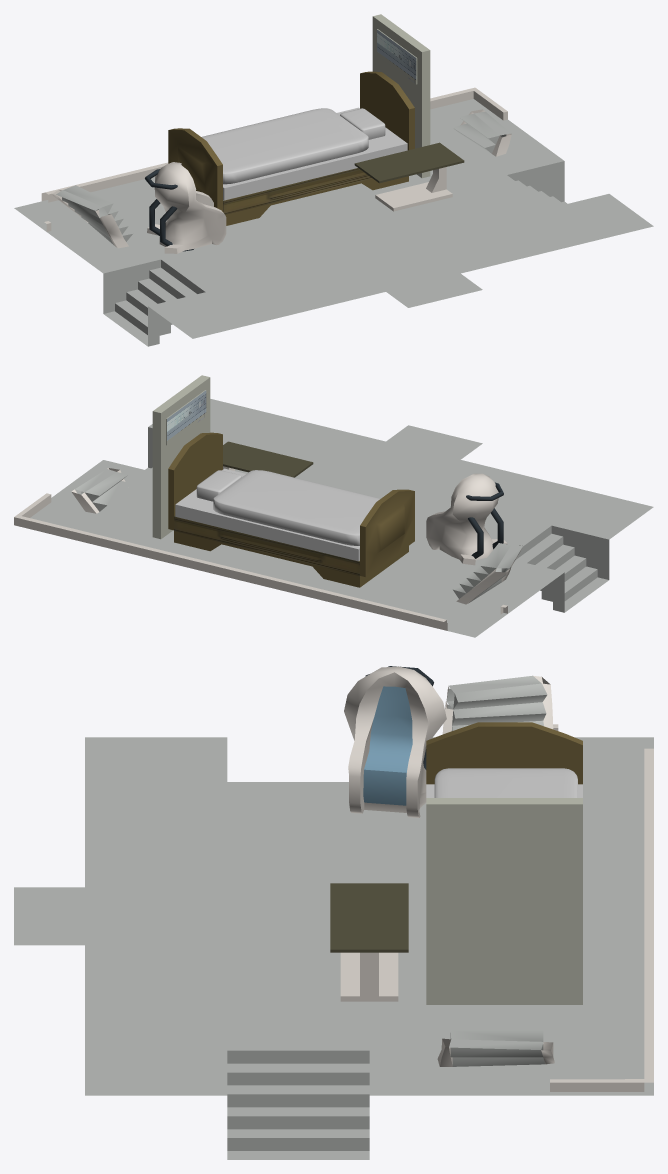
Rendered from mitakihara_hospital_homuraroom_nowall.fbx.
3 renders of one model, top to bottom at view 1: azimuth 30°, elevation 25°; view 2: azimuth 150°, elevation 25°; view 3: azimuth 270°, elevation 25°, orthographic. The views are drawn at different scales.
Parts seen in each view (by area): view 1: mitakihara_hospital_homuraroom; view 2: mitakihara_hospital_homuraroom; view 3: mitakihara_hospital_homuraroom.
Part boxes in pixels (left/top/right/bottom): mitakihara_hospital_homuraroom: left=14, top=14, right=653, bottom=346; mitakihara_hospital_homuraroom: left=14, top=375, right=653, bottom=637; mitakihara_hospital_homuraroom: left=14, top=666, right=653, bottom=1159.
Size of the model in its own units: 298 by 103 by 225.
